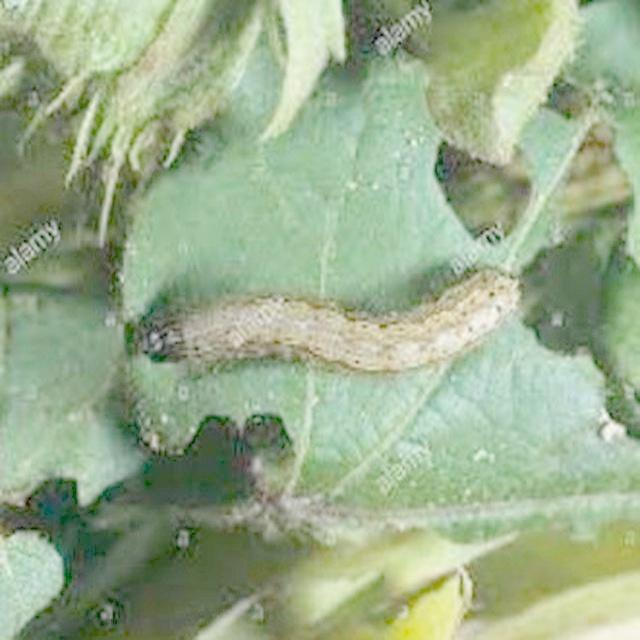Plaga: (123, 260, 520, 380)
